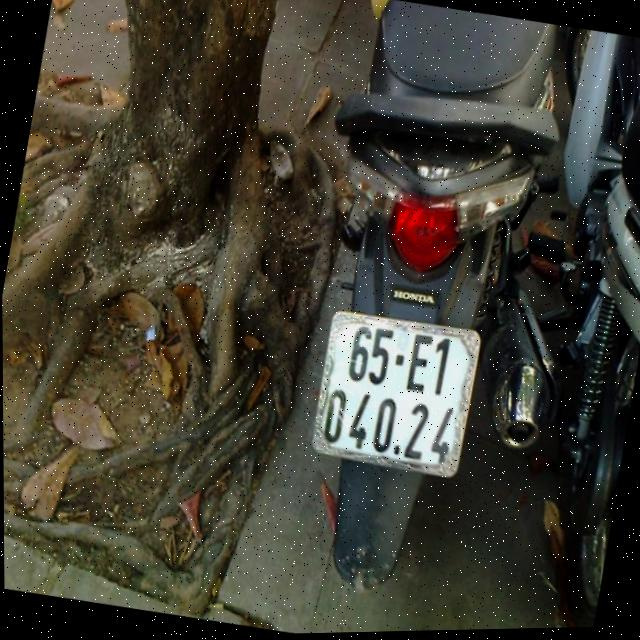motorcycle: (253, 0, 617, 634), (462, 24, 640, 630)
plate: (307, 304, 483, 485)
